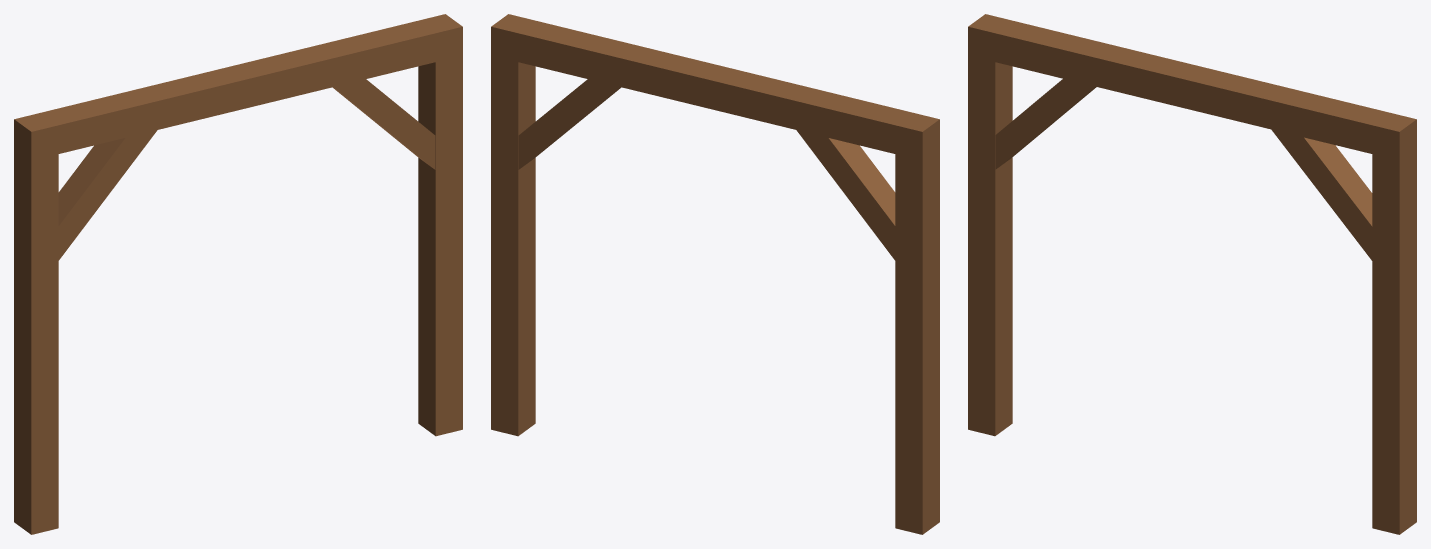
The model's file is mine-frame.glb.
The picture shows the model from 3 angles, left to right: view 1: azimuth 30°, elevation 25°; view 2: azimuth 150°, elevation 25°; view 3: azimuth 330°, elevation 25°; orthographic projection.
Visible parts, largest first — view 1: Wooden_14.001; view 2: Wooden_14.001; view 3: Wooden_14.001.
Part boxes in pixels (left/top/right/bottom): Wooden_14.001: left=14, top=14, right=462, bottom=534; Wooden_14.001: left=491, top=14, right=939, bottom=534; Wooden_14.001: left=968, top=14, right=1416, bottom=534.
Size of the model in its own units: 18.79 by 16.78 by 1.31.
